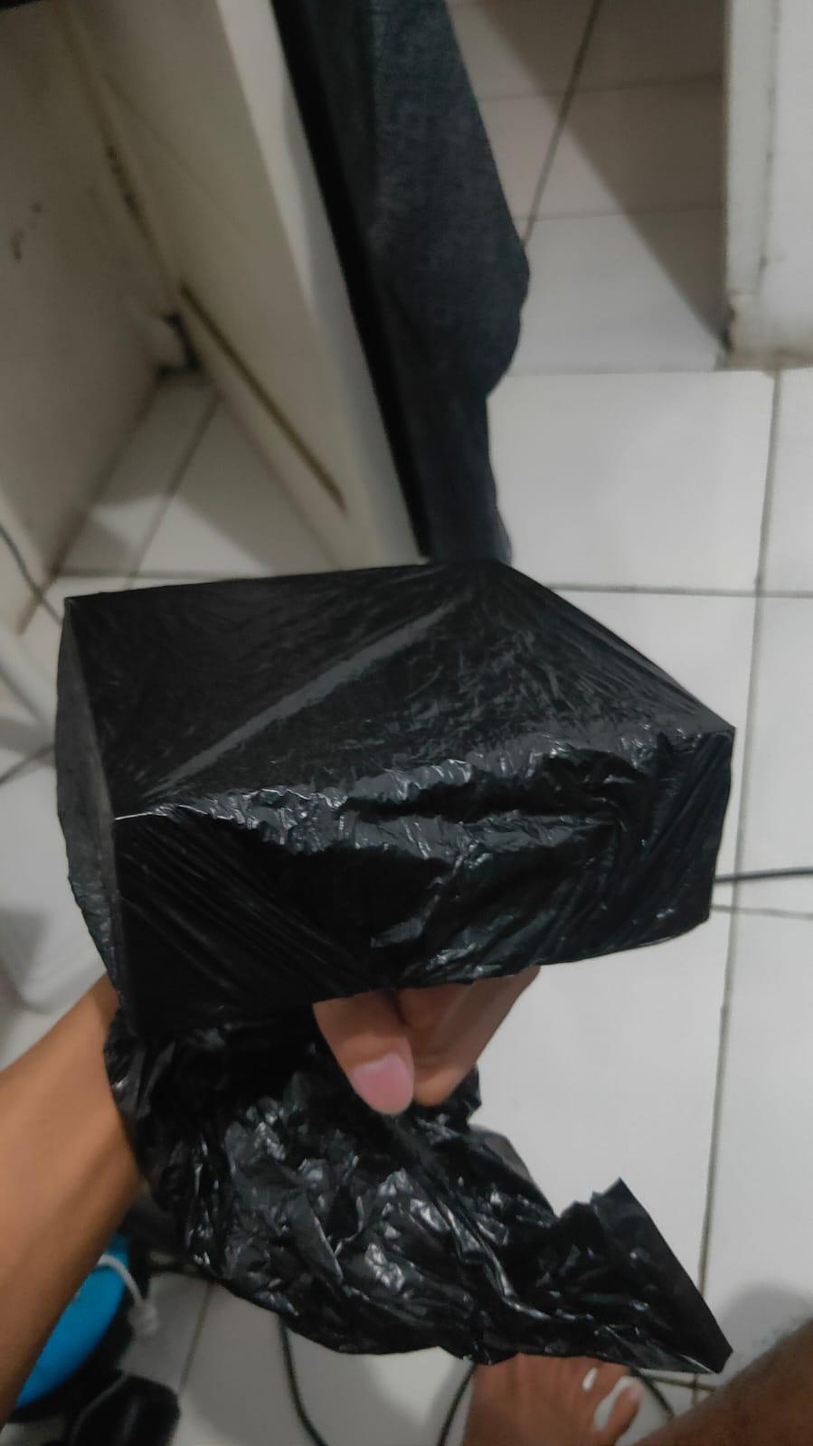undamaged: (36, 535, 750, 1034)
